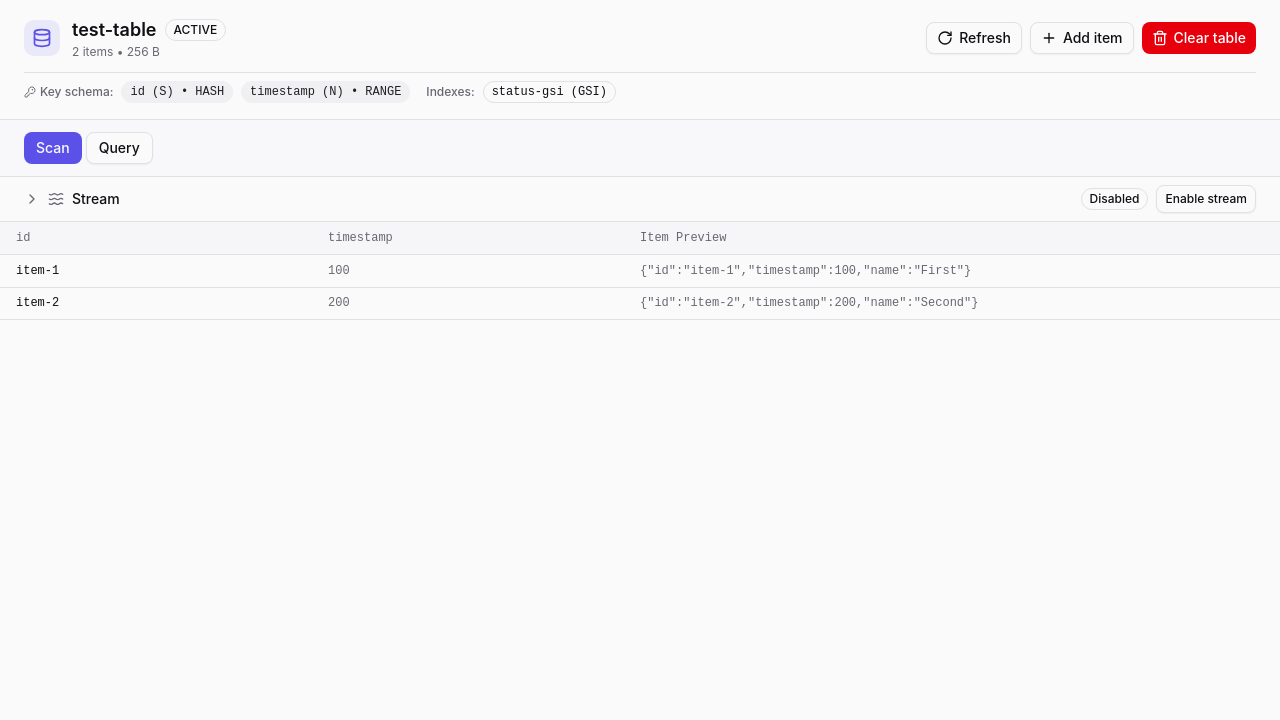
Test case: TableView › opens inspector panel on row click showing item JSON
The width and height of the screenshot is (1280, 720).
Click the text "item-1": (38, 271) left=16, top=264, right=59, bottom=278
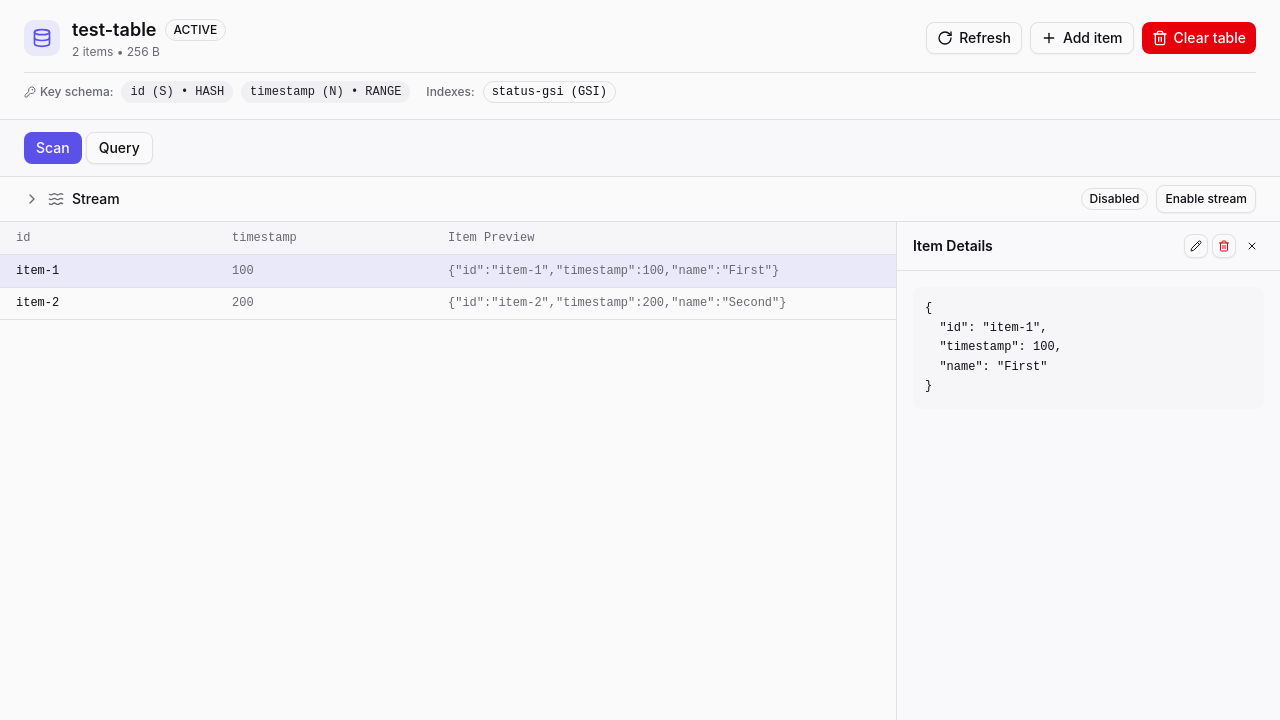
Expected: the heading "Item Details" is shown, left=913, top=236, right=993, bottom=256
Expected: the text "{ \"id\": \"item-1\", \"timestamp\": 100, \"name\": \"First\" }" is shown, left=913, top=287, right=1264, bottom=408
